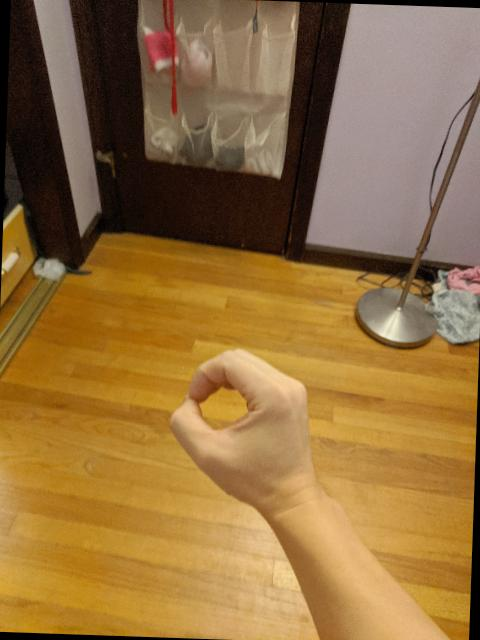O: (161, 342, 324, 512)
